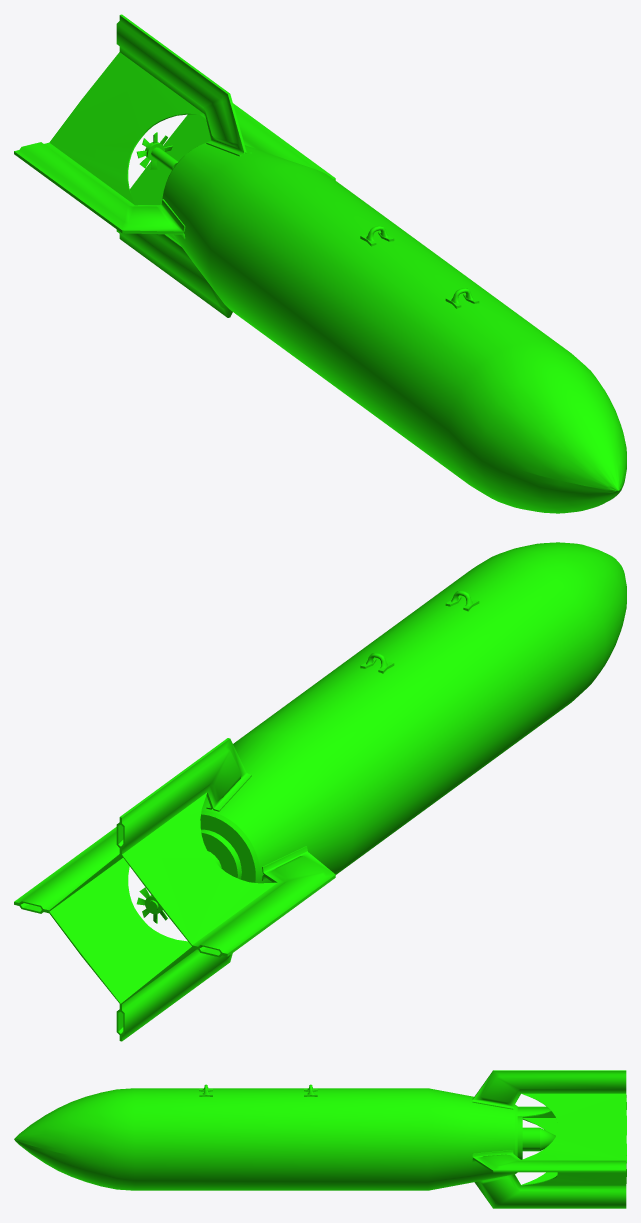
3 renders of one model, top to bottom at view 1: azimuth 30°, elevation 25°; view 2: azimuth 150°, elevation 25°; view 3: azimuth 270°, elevation 25°, orthographic. The views are drawn at different scales.
Parts seen in each view (by area): view 1: mk1; view 2: mk1; view 3: mk1.
Boxes of the visible parts, x1=… form: mk1: x1=14, y1=14, x2=626, y2=513; mk1: x1=14, y1=542, x2=626, y2=1041; mk1: x1=14, y1=1070, x2=626, y2=1208.
Bounding box in the file's own units: 52.6 × 52.7 × 213.
